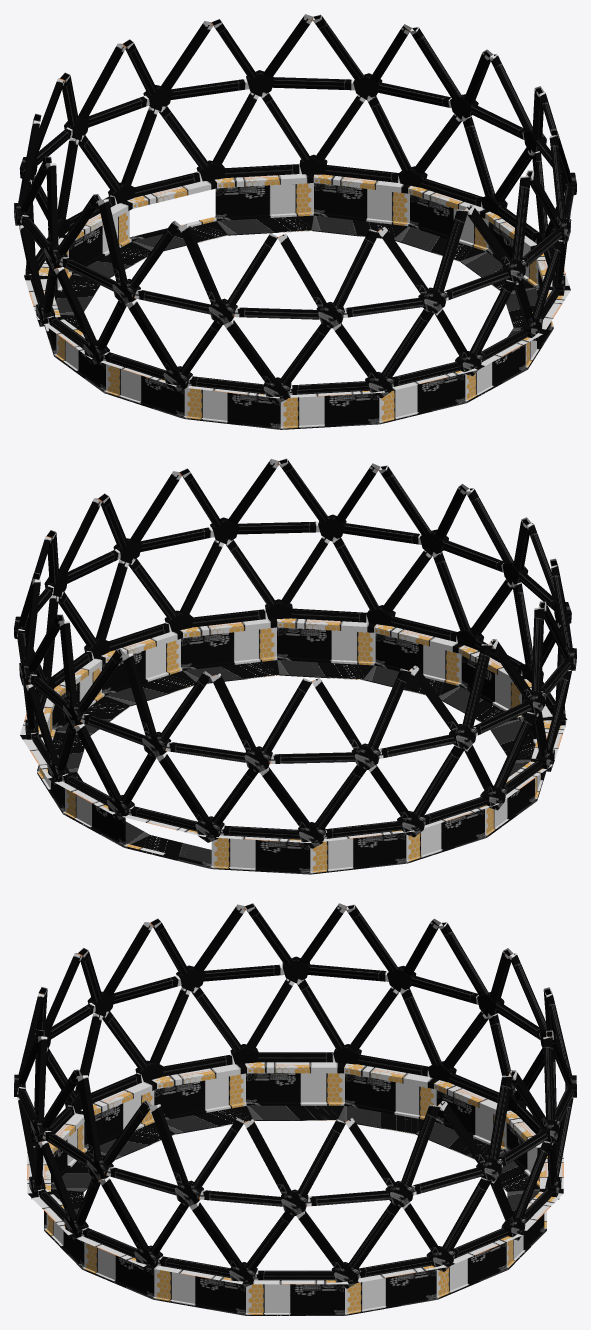
The model's file is Prop_Dome.fbx.
The picture shows the model from 3 angles, top to bottom: view 1: azimuth 30°, elevation 25°; view 2: azimuth 150°, elevation 25°; view 3: azimuth 270°, elevation 25°; orthographic projection.
Visible parts, largest first — view 1: polySurface71, polySurface139, polySurface145, polySurface146, polySurface151, polySurface140, polySurface141, polySurface152, polySurface143, polySurface182, polySurface150, polySurface183 (+13 smaller); view 2: polySurface71, polySurface150, polySurface143, polySurface147, polySurface144, polySurface140, polySurface148, polySurface138, polySurface145, polySurface172, polySurface139, polySurface181 (+14 smaller); view 3: polySurface71, polySurface142, polySurface137, polySurface152, polySurface138, polySurface141, polySurface148, polySurface151, polySurface144, polySurface177, polySurface147, polySurface146 (+15 smaller).
Boxes of the visible parts, bbox=[...] form: polySurface71: bbox=[14, 14, 576, 403]; polySurface139: bbox=[280, 393, 379, 428]; polySurface145: bbox=[215, 183, 313, 217]; polySurface146: bbox=[184, 388, 280, 428]; polySurface151: bbox=[314, 183, 409, 222]; polySurface140: bbox=[379, 373, 465, 423]; polySurface141: bbox=[106, 364, 184, 417]; polySurface152: bbox=[410, 194, 488, 248]; polySurface143: bbox=[465, 344, 525, 401]; polySurface182: bbox=[217, 215, 313, 235]; polySurface150: bbox=[69, 210, 129, 271]; polySurface183: bbox=[311, 215, 407, 238]; polySurface71: bbox=[14, 458, 576, 848]; polySurface150: bbox=[211, 838, 310, 873]; polySurface143: bbox=[277, 627, 375, 661]; polySurface147: bbox=[310, 832, 406, 873]; polySurface144: bbox=[181, 627, 276, 667]; polySurface140: bbox=[375, 633, 461, 682]; polySurface148: bbox=[406, 809, 484, 862]; polySurface138: bbox=[102, 639, 180, 692]; polySurface145: bbox=[65, 788, 125, 846]; polySurface172: bbox=[277, 660, 373, 679]; polySurface139: bbox=[461, 655, 521, 716]; polySurface181: bbox=[124, 835, 211, 868]; polySurface71: bbox=[14, 903, 576, 1288]; polySurface142: bbox=[246, 1073, 344, 1102]; polySurface137: bbox=[246, 1284, 344, 1314]; polySurface152: bbox=[345, 1269, 436, 1314]; polySurface138: bbox=[154, 1269, 245, 1314]; polySurface141: bbox=[154, 1073, 245, 1116]; polySurface148: bbox=[345, 1073, 436, 1116]; polySurface151: bbox=[436, 1242, 506, 1298]; polySurface144: bbox=[84, 1242, 154, 1298]; polySurface177: bbox=[247, 1105, 343, 1120]; polySurface147: bbox=[436, 1090, 506, 1147]; polySurface146: bbox=[84, 1090, 154, 1147].
Bounding box in the file's own units: 28.55 × 11.07 × 28.55.
